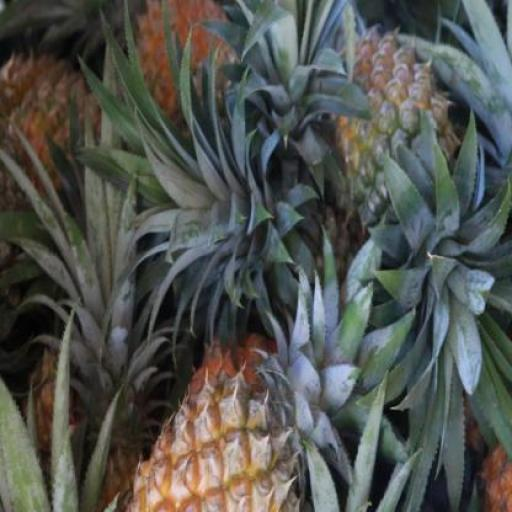------------------------------: (330, 29, 468, 239)
Pineapple - v8 v1: (122, 357, 305, 512)
